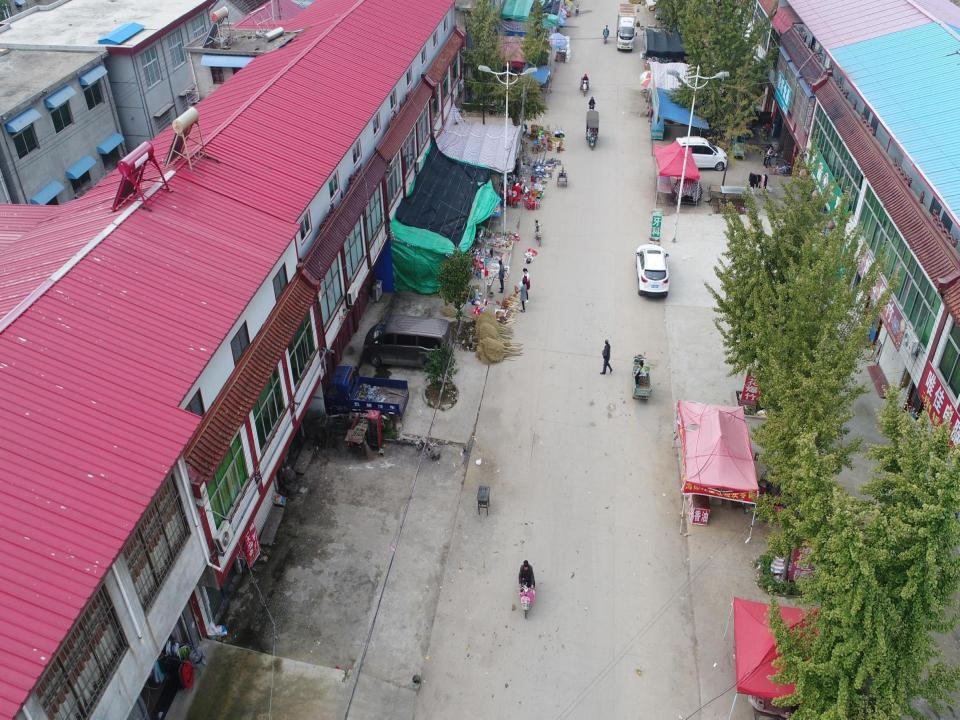car: (675, 133, 730, 176), (636, 243, 670, 298)
truck: (318, 360, 415, 421)
van: (364, 314, 458, 368)
